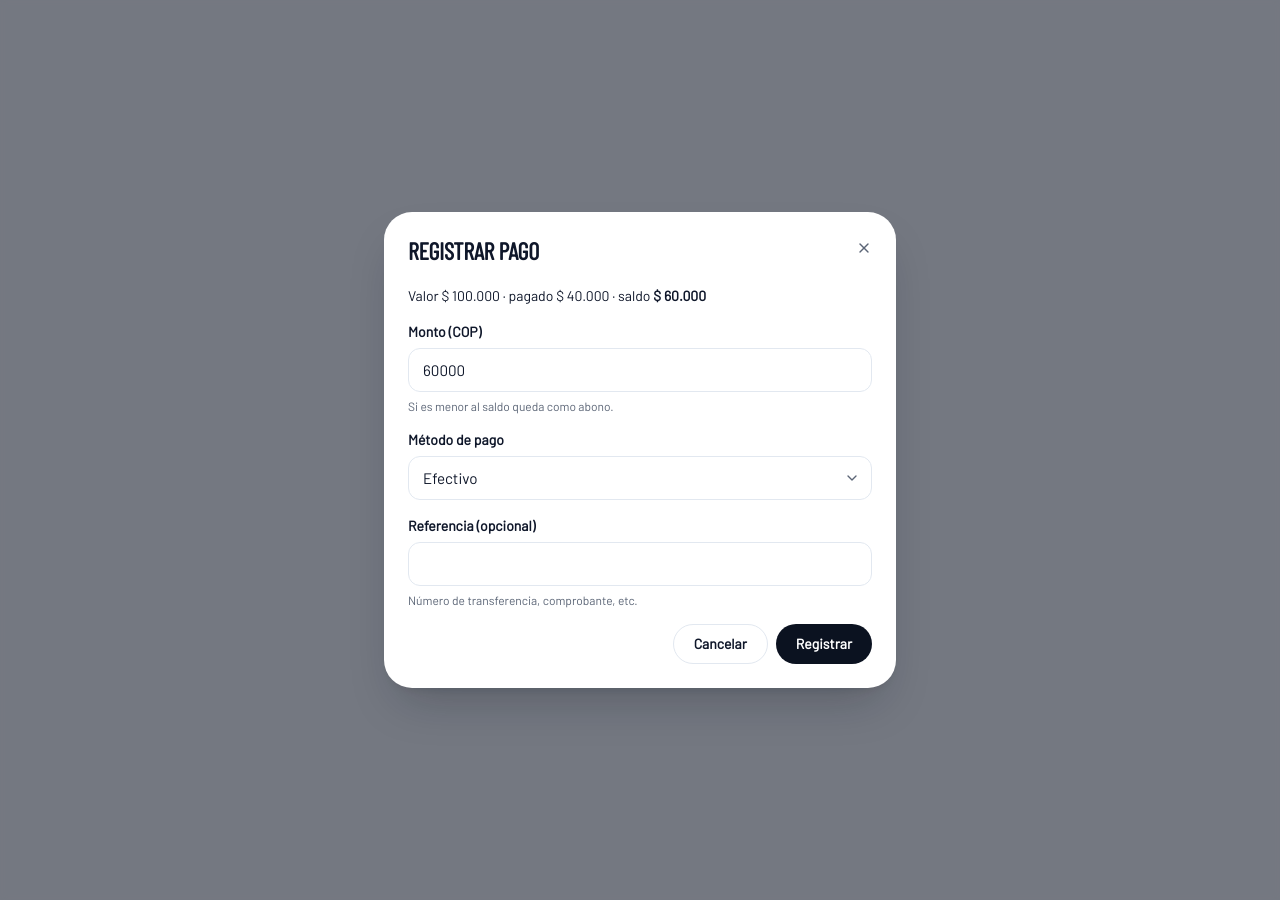
Test: ModalPago › sugiere el saldo pendiente y no deja pasarse de él
Check: the button "Registrar" is enabled, box top-left (776, 624), bottom-right (872, 664)
Replace the text in the number field labelled "Monto (COP)" with "60001": (640, 370) top-left (408, 348), bottom-right (872, 392)
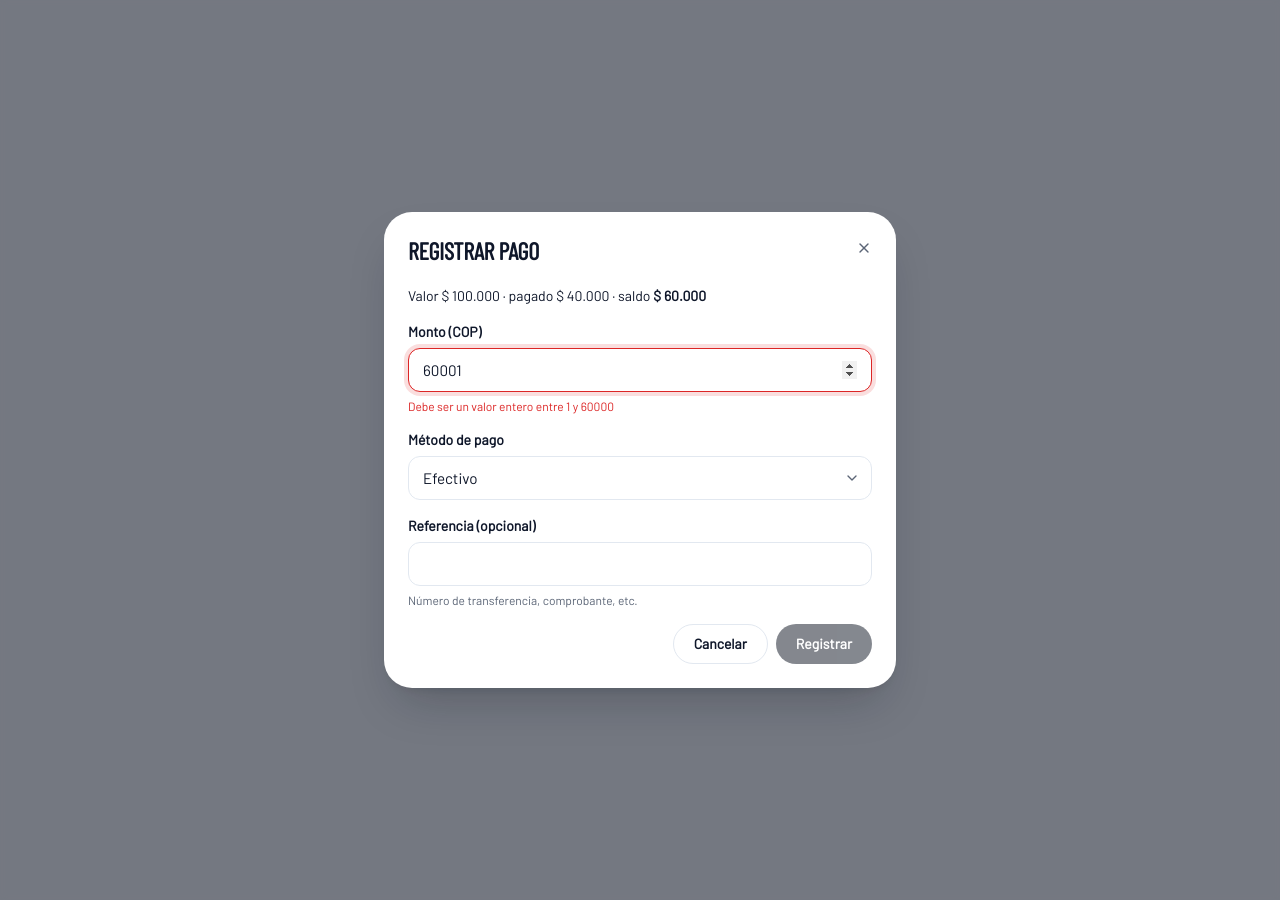
Check: the button "Registrar" is disabled, box top-left (776, 624), bottom-right (872, 664)
Check: the text "Debe ser un valor entero entre 1 y 60000" is shown, box top-left (408, 399), bottom-right (614, 413)
Replace the text in the number field labelled "Monto (COP)" with "25000": (640, 370) top-left (408, 348), bottom-right (872, 392)
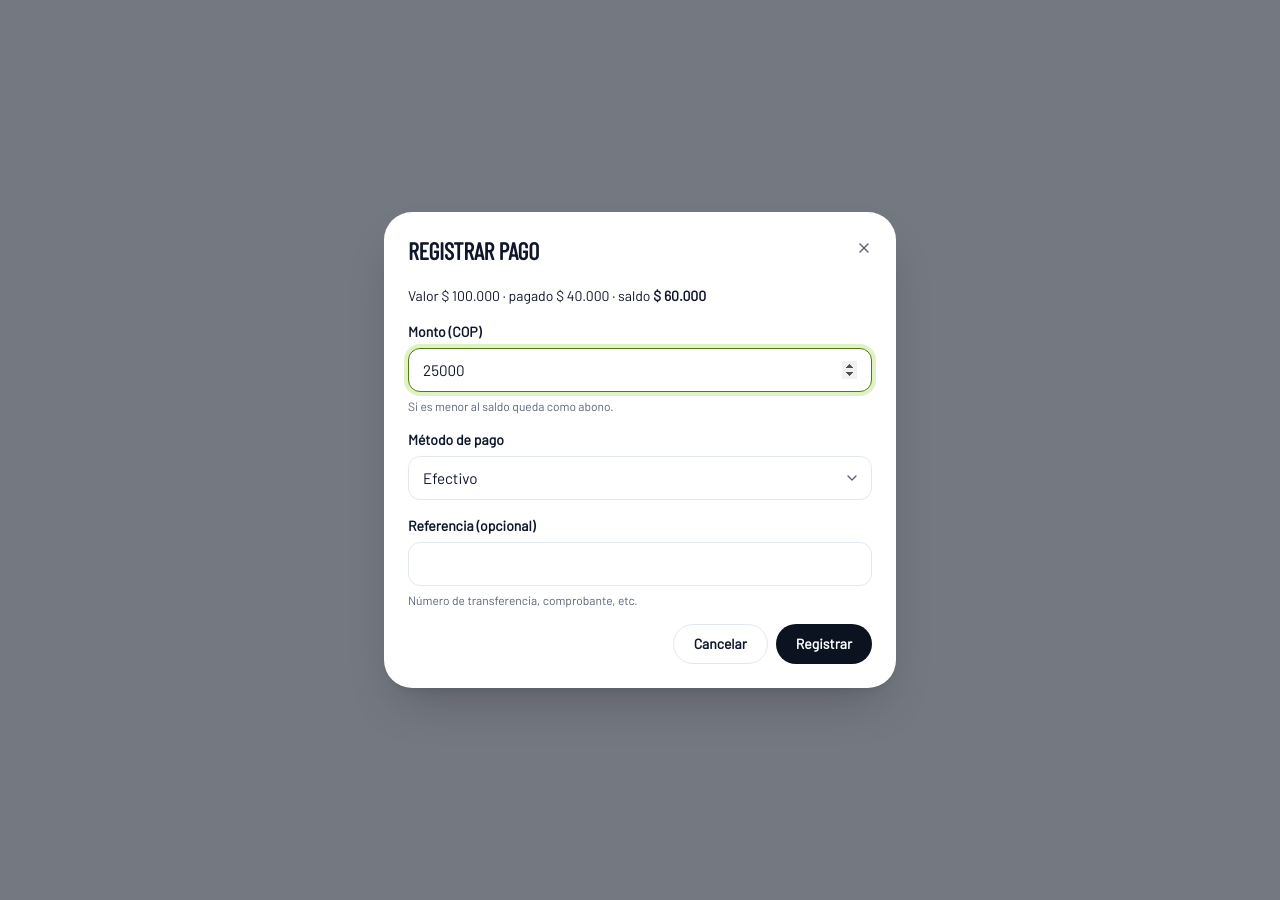
Check: the button "Registrar" is enabled, box top-left (776, 624), bottom-right (872, 664)
